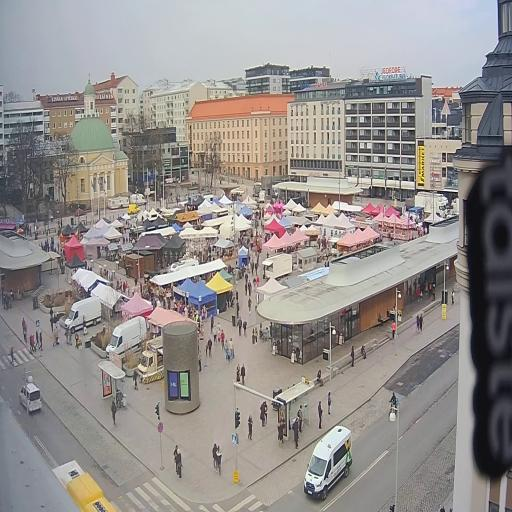bus: (45, 455, 117, 512)
car: (19, 378, 43, 418)
delivery: (296, 417, 358, 502), (104, 311, 148, 364), (61, 289, 103, 335), (413, 194, 449, 222), (130, 188, 149, 206), (127, 202, 142, 216)
two-wheels: (386, 385, 402, 419)
